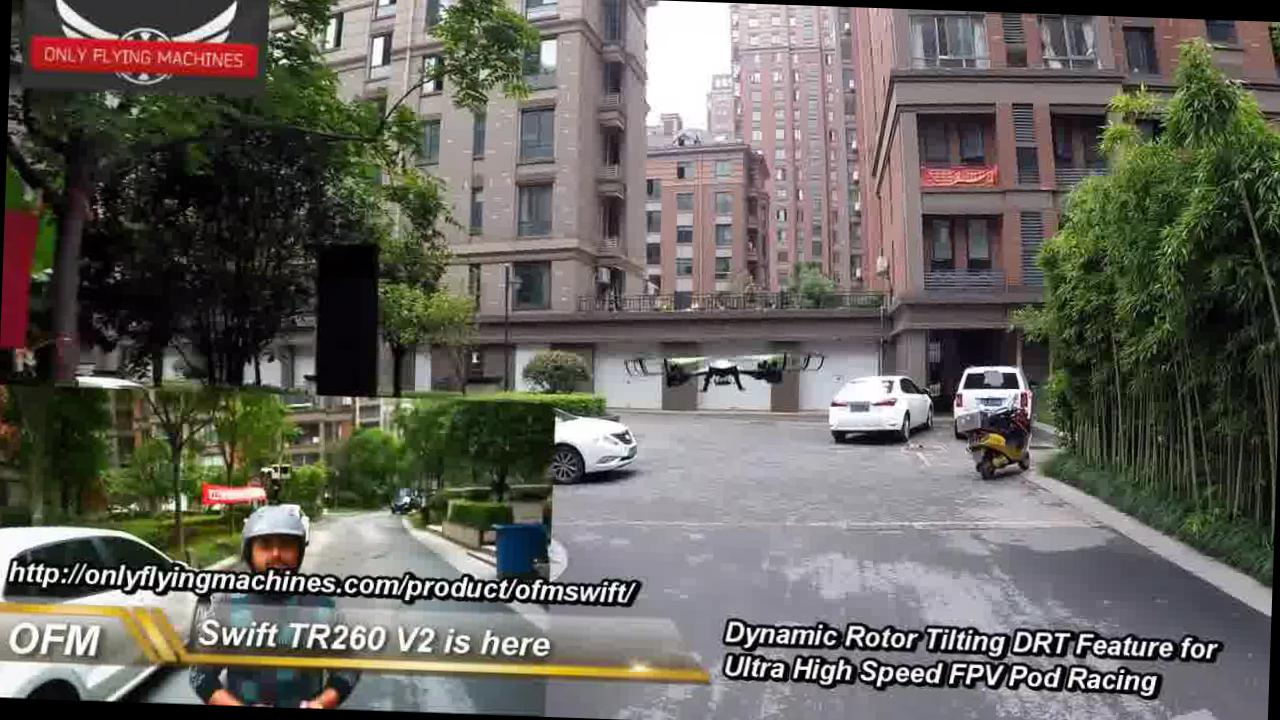drone: (614, 338, 832, 401)
